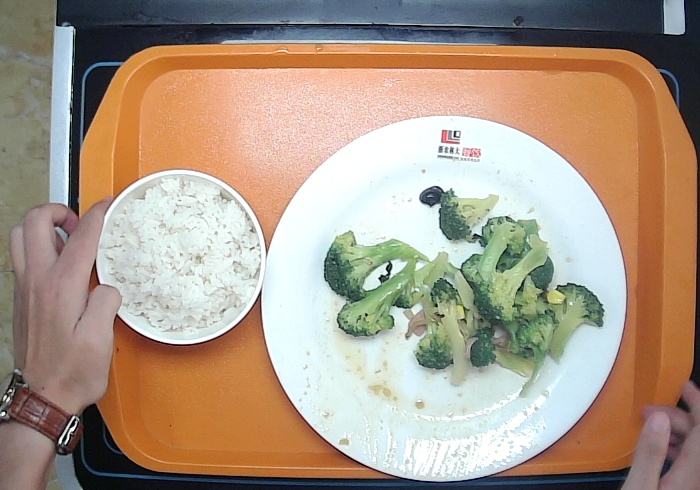ZNLD-Da_Yuan_Pan: (253, 103, 639, 490)
ZNLD-Fan_Wan: (92, 157, 279, 352)
